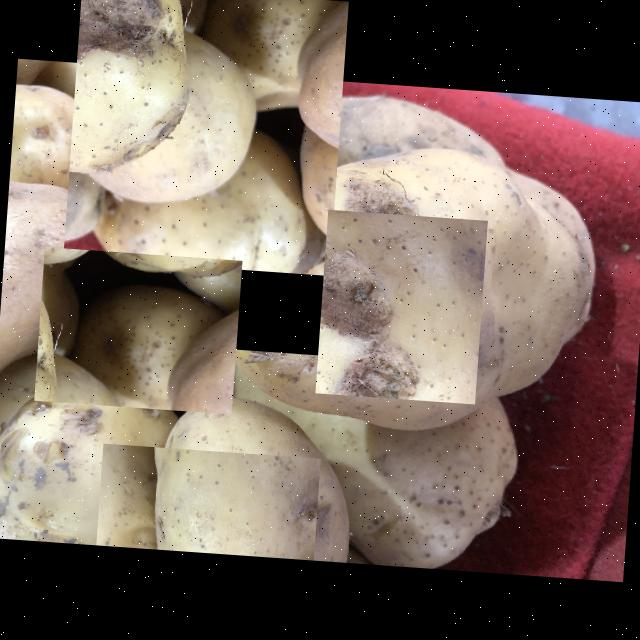Damaged potato: (57, 0, 348, 355)
Potato: (34, 247, 242, 414), (288, 384, 475, 564), (315, 209, 487, 404), (96, 443, 320, 560)
